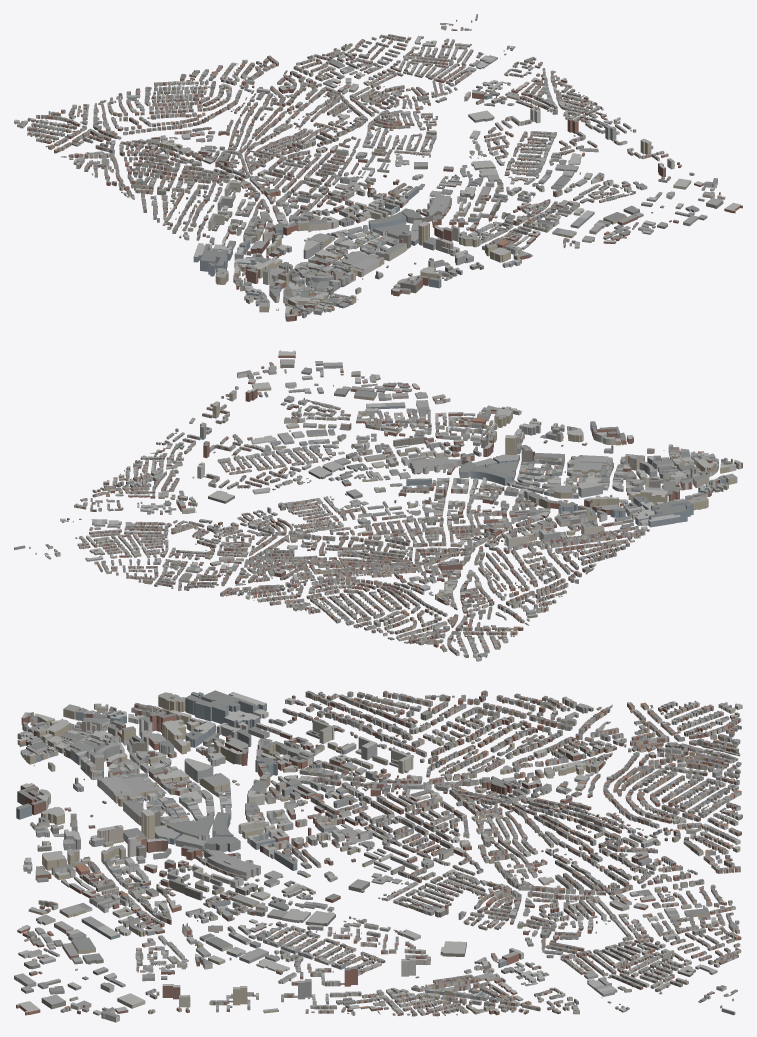
The model's file is buildings_b0_2_2.glb.
3 renders of one model, top to bottom at view 1: azimuth 30°, elevation 25°; view 2: azimuth 150°, elevation 25°; view 3: azimuth 270°, elevation 25°, orthographic. The views are drawn at different scales.
Parts seen in each view (by area): view 1: t08_08_buildings_b0, t09_10_buildings_b0, t08_09_buildings_b0, t09_09_buildings_b0, t09_11_buildings_b0, t09_08_buildings_b0, t08_11_buildings_b0, t10_11_buildings_b0, t10_08_buildings_b0, t08_10_buildings_b0, t11_10_buildings_b0, t10_10_buildings_b0 (+4 smaller); view 2: t08_09_buildings_b0, t08_08_buildings_b0, t09_10_buildings_b0, t09_11_buildings_b0, t09_09_buildings_b0, t08_11_buildings_b0, t08_10_buildings_b0, t09_08_buildings_b0, t10_08_buildings_b0, t10_11_buildings_b0, t10_10_buildings_b0, t10_09_buildings_b0 (+4 smaller); view 3: t08_09_buildings_b0, t08_08_buildings_b0, t08_10_buildings_b0, t09_10_buildings_b0, t09_11_buildings_b0, t08_11_buildings_b0, t09_09_buildings_b0, t09_08_buildings_b0, t10_11_buildings_b0, t10_08_buildings_b0, t10_10_buildings_b0, t10_09_buildings_b0 (+4 smaller).
Boxes of the visible parts, x1,y1,x2,y2 form: t08_08_buildings_b0: (215, 240, 363, 321); t09_10_buildings_b0: (198, 119, 374, 194); t08_09_buildings_b0: (153, 192, 331, 276); t09_09_buildings_b0: (264, 169, 443, 245); t09_11_buildings_b0: (135, 60, 309, 142); t09_08_buildings_b0: (329, 215, 512, 296); t08_11_buildings_b0: (14, 91, 190, 168); t10_11_buildings_b0: (243, 41, 425, 119); t10_08_buildings_b0: (449, 189, 622, 266); t08_10_buildings_b0: (84, 147, 257, 212); t11_10_buildings_b0: (431, 61, 603, 140); t10_10_buildings_b0: (310, 92, 491, 169); t08_09_buildings_b0: (501, 485, 693, 553); t08_08_buildings_b0: (570, 444, 742, 510); t09_10_buildings_b0: (319, 508, 496, 583); t09_11_buildings_b0: (247, 557, 427, 628); t09_09_buildings_b0: (389, 459, 560, 535); t08_11_buildings_b0: (364, 584, 548, 661); t08_10_buildings_b0: (444, 533, 616, 607); t09_08_buildings_b0: (460, 408, 633, 485); t10_08_buildings_b0: (339, 382, 513, 457); t10_11_buildings_b0: (131, 529, 313, 599); t10_10_buildings_b0: (198, 481, 383, 558); t10_09_buildings_b0: (270, 429, 461, 508); t08_09_buildings_b0: (185, 690, 388, 794); t08_08_buildings_b0: (17, 692, 213, 789); t08_10_buildings_b0: (379, 690, 562, 786); t09_10_buildings_b0: (376, 776, 564, 864); t09_11_buildings_b0: (558, 771, 742, 863); t08_11_buildings_b0: (557, 696, 742, 782); t09_09_buildings_b0: (199, 779, 384, 870); t09_08_buildings_b0: (16, 773, 213, 864); t10_11_buildings_b0: (558, 847, 740, 942); t10_08_buildings_b0: (17, 848, 210, 940); t10_10_buildings_b0: (371, 857, 563, 940); t10_09_buildings_b0: (195, 848, 381, 941).
Size of the model in its own units: 2093 by 84.46 by 2035.
